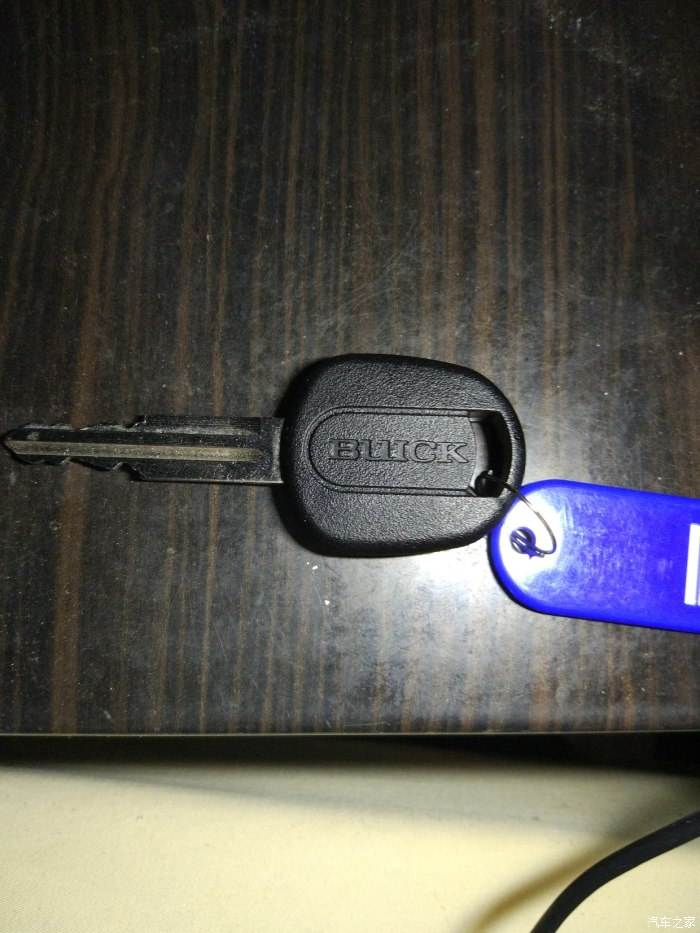key: (5, 342, 536, 566)
